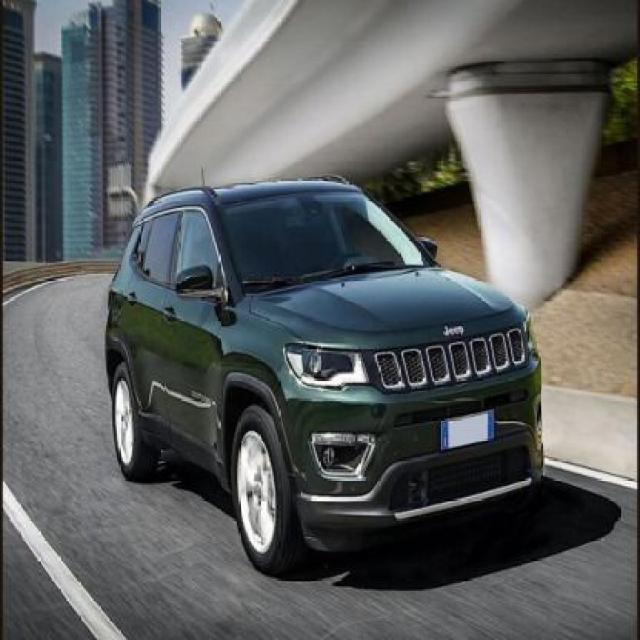Jeep: (102, 175, 547, 578)
